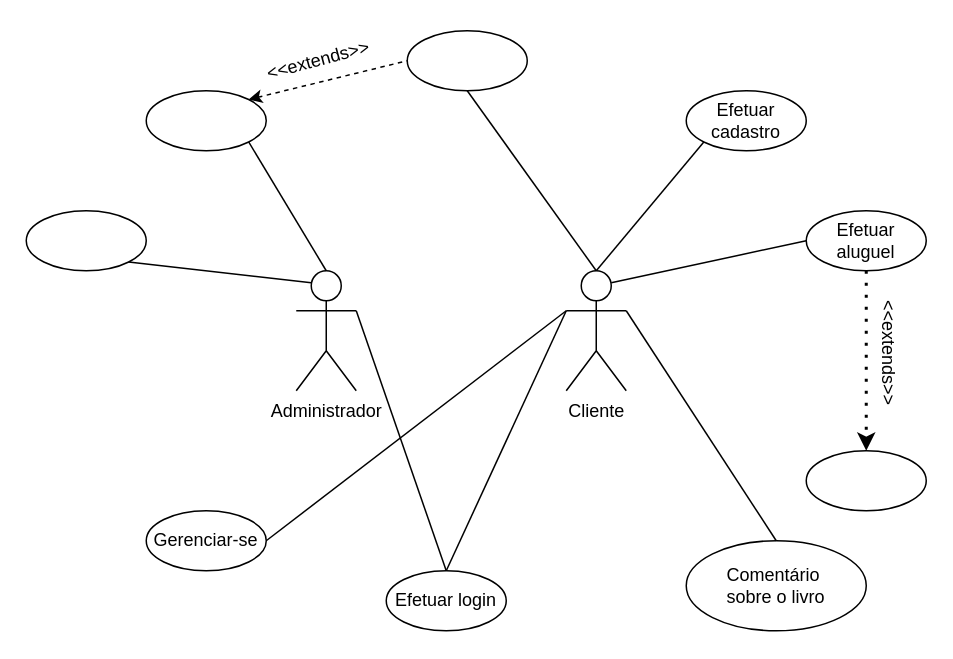
The diagram is 953 pixels wide and 659 high, and some of its shapes have lost their labels. Here are the shapes that lost their labels. From the top down, the centre of each, then its label:
At pixel 466 60: "Buscar livros".
At pixel 205 120: "Gerenciar livros".
At pixel 85 240: "Gerenciar usuários".
At pixel 865 480: "Efetuar multa".
